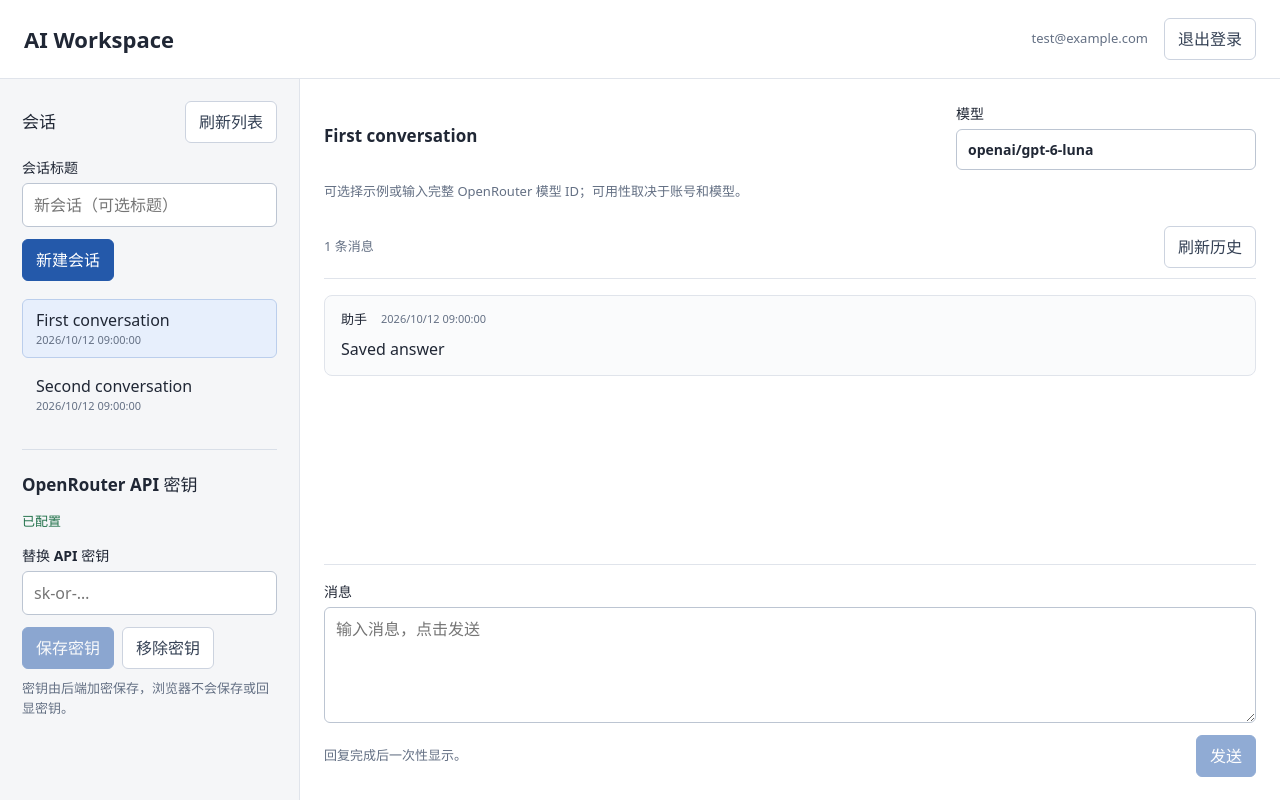
Test: 提交后清空 API 密钥输入框，且不写入浏览器存储
Expected: the text "Saved answer" is shown, [341, 338, 445, 360]
Expected: the text "已配置" is shown, [22, 512, 61, 530]
Type "dummy-test-key" into the password field labelled "替换 API 密钥" at (150, 593), box [22, 571, 277, 615]
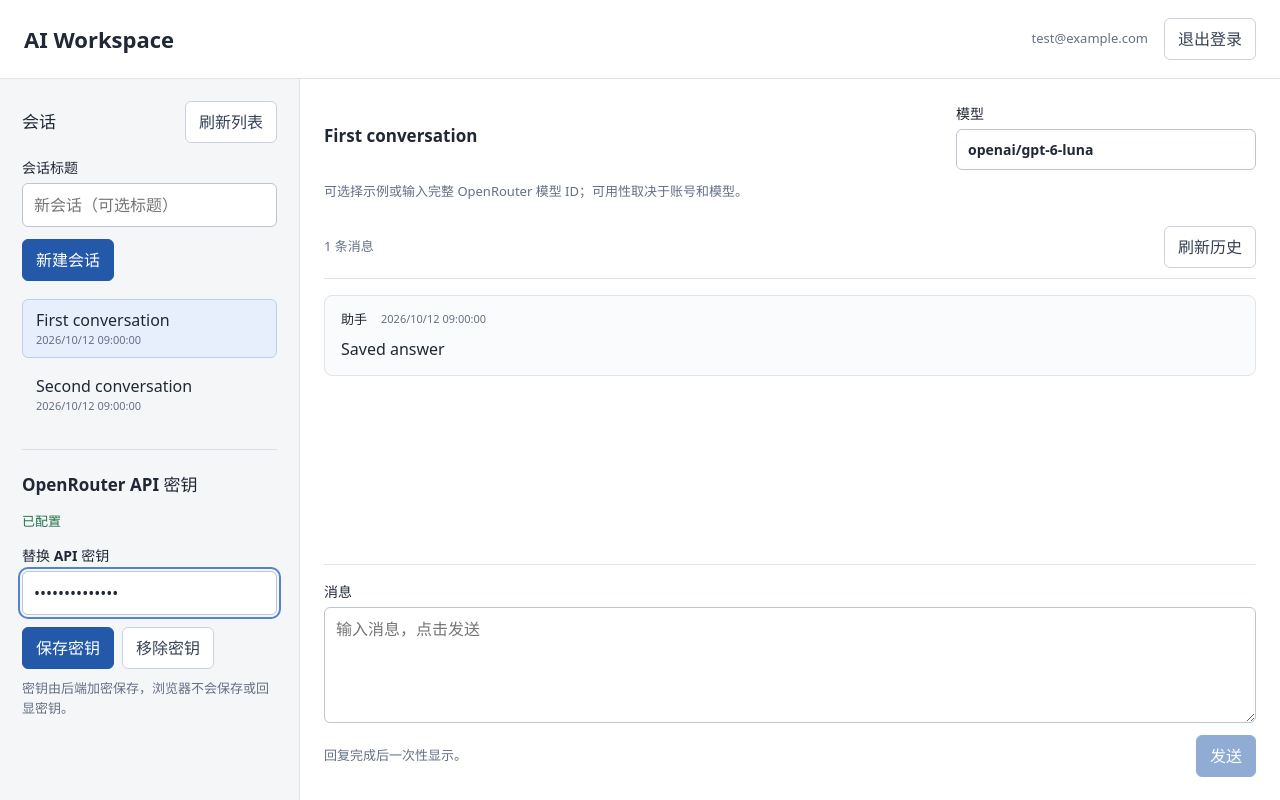
Click the button "保存密钥" at (68, 648), box [22, 627, 114, 669]
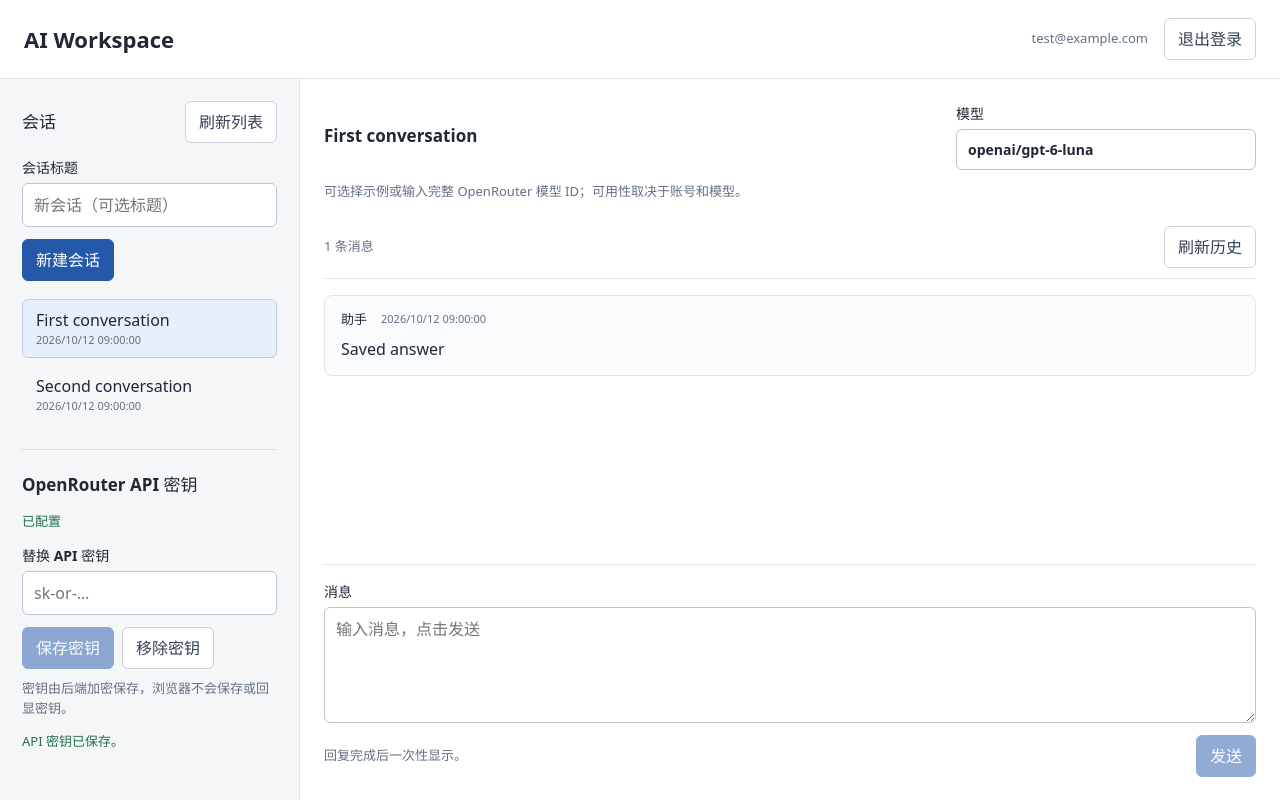
Now the text "API 密钥已保存。" is shown, box [22, 732, 124, 750]
Now the password field labelled "替换 API 密钥" is empty, box [22, 571, 277, 615]
